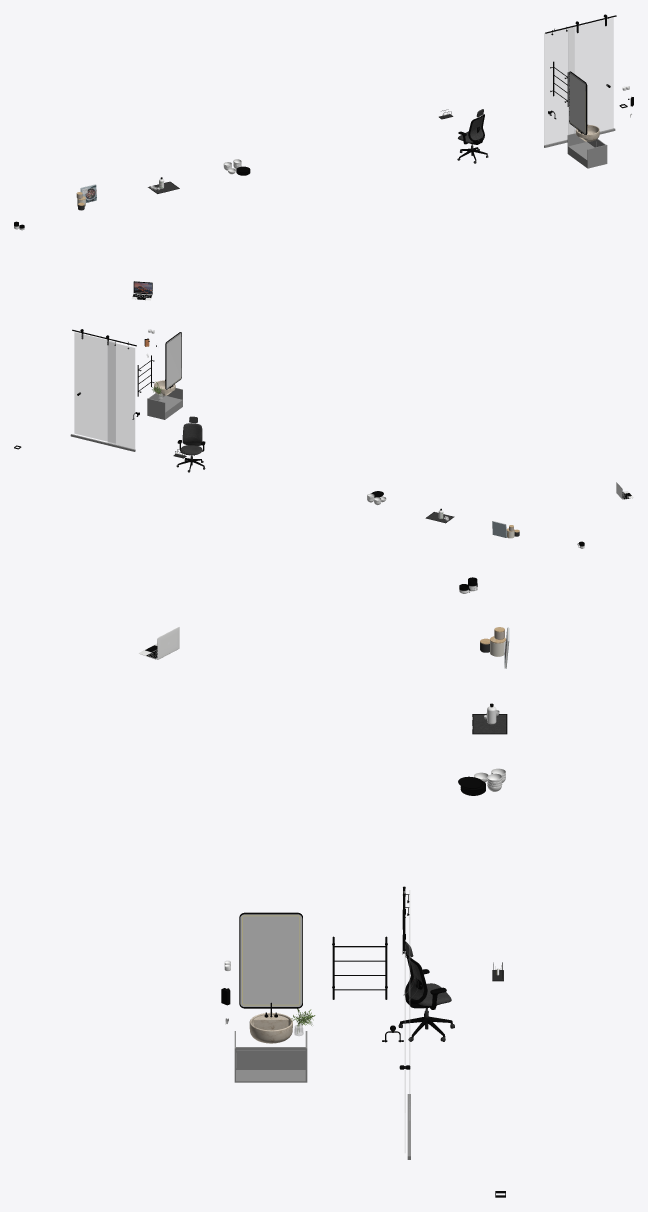
The model's file is casa-completa-05.glb.
3 views of the same model, one above another, from view 1: azimuth 30°, elevation 25°; view 2: azimuth 150°, elevation 25°; view 3: azimuth 270°, elevation 25° (orthographic). The views are drawn at different scales.
Visible parts, largest first — view 1: BathroomFurnitures, KDecor, Office+Desk; view 2: BathroomFurnitures, Office+Desk, KDecor; view 3: BathroomFurnitures, KDecor, Office+Desk.
Part boxes in pixels (x1,y1,x2,y2): BathroomFurnitures: (544,14,633,168); KDecor: (14,159,250,230); Office+Desk: (439,109,488,163); BathroomFurnitures: (14,329,182,451); Office+Desk: (173,416,205,472); KDecor: (367,491,584,548); BathroomFurnitures: (221,886,505,1197); KDecor: (458,577,509,795); Office+Desk: (398,941,503,1041).
Bounding box in the file's own units: 16.76 × 3.16 × 4.79.
30 materials, 14 textured.
